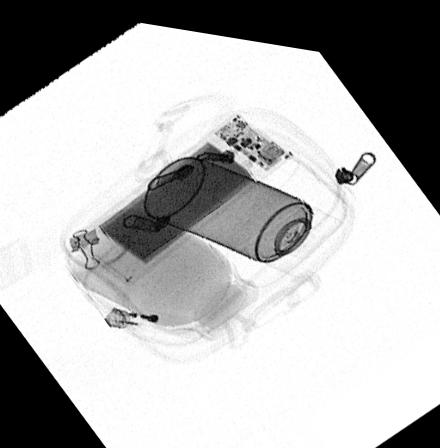Lighter: (102, 303, 199, 331)
Powerbank: (70, 101, 292, 282)
Sprayer: (143, 150, 344, 270)
